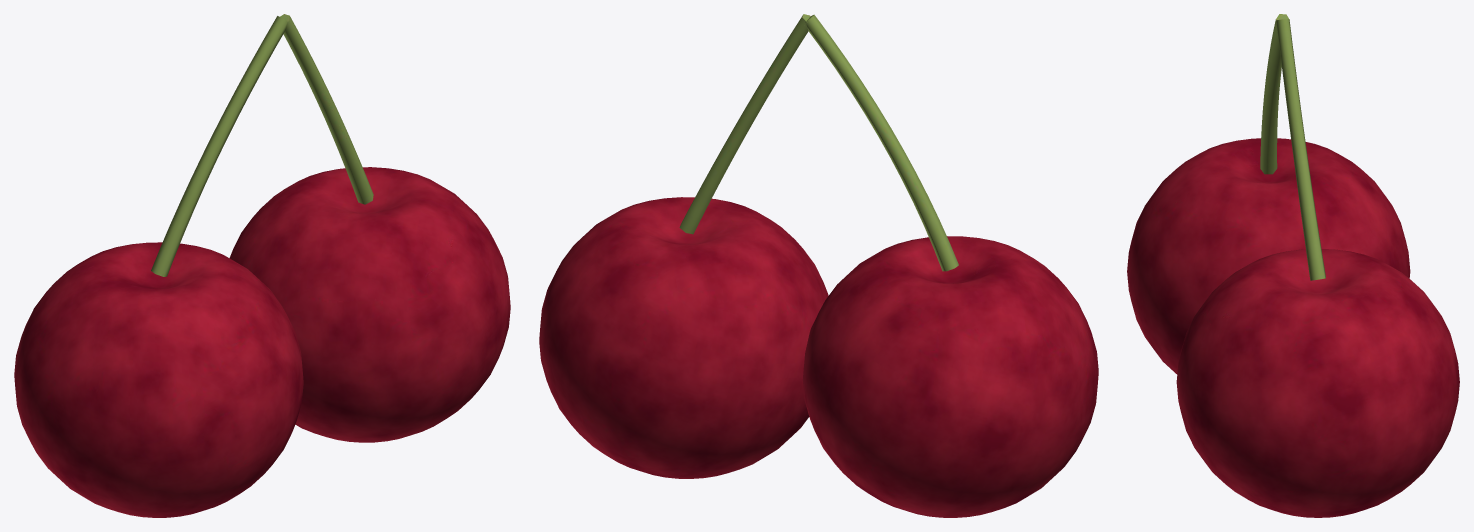
Rendered from cherries.glb.
3 renders of one model, left to right at view 1: azimuth 30°, elevation 25°; view 2: azimuth 150°, elevation 25°; view 3: azimuth 270°, elevation 25°, orthographic. The views are drawn at different scales.
Parts seen in each view (by area): view 1: cherries; view 2: cherries; view 3: cherries.
Part boxes in pixels (bbox=[...]): cherries: bbox=[14, 14, 510, 517]; cherries: bbox=[539, 14, 1098, 517]; cherries: bbox=[1127, 14, 1459, 517].
Bounding box in the file's own units: 3.85 × 3.43 × 2.35.
1 material, 1 textured.
